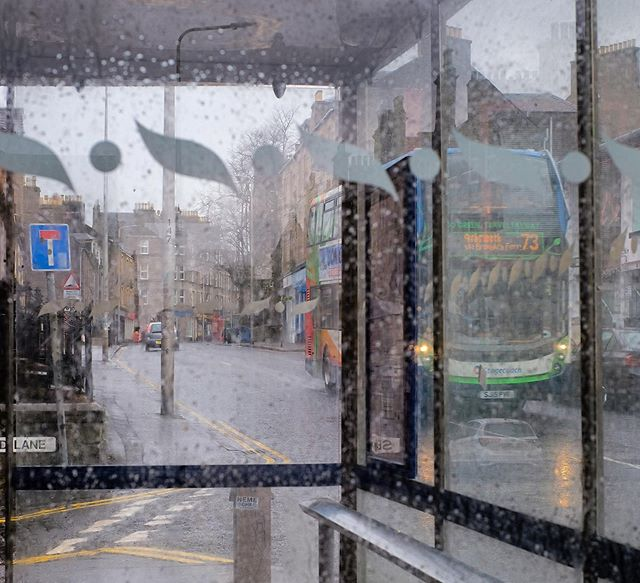building: (245, 112, 343, 343), (17, 190, 135, 345), (127, 216, 239, 342)
bus: (295, 174, 566, 413)
street: (126, 340, 640, 583)
